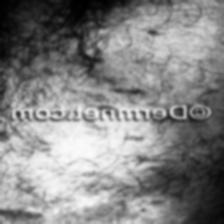Potentially Malignant Skin Tumors: (101, 85, 153, 95)
